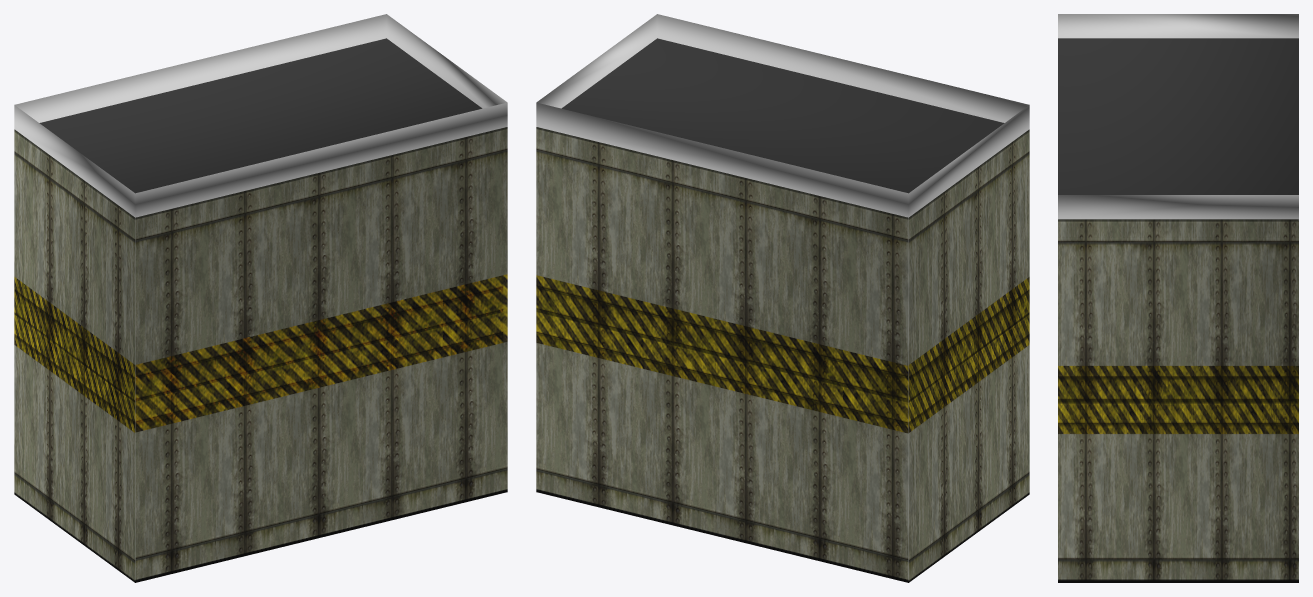
File: mp_factory01.fbx
3 renders of one model, left to right at view 1: azimuth 30°, elevation 25°; view 2: azimuth 150°, elevation 25°; view 3: azimuth 270°, elevation 25°, orthographic.
Parts seen in each view (by area): view 1: Plane; view 2: Plane; view 3: Plane.
Boxes of the visible parts, x1,y1,x2,y2 form: Plane: (14, 14, 507, 582); Plane: (536, 14, 1029, 582); Plane: (1058, 14, 1298, 582).
Size of the model in its own units: 16 by 16 by 9.
